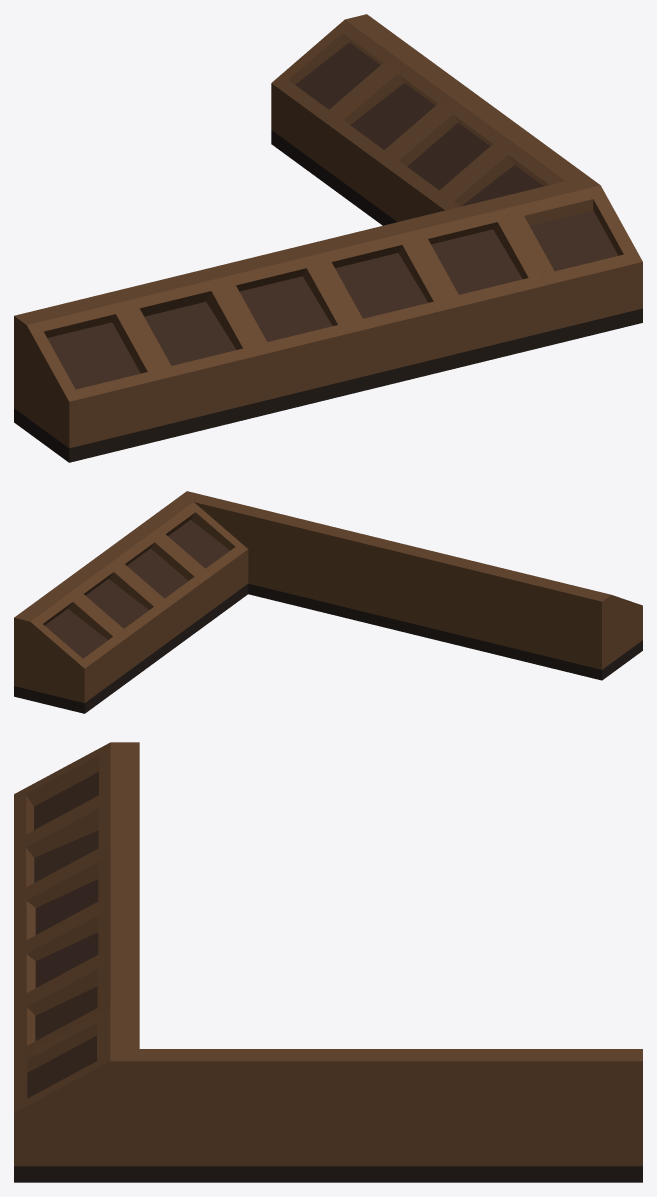
The model's file is bacsBois_corner3.fbx.
3 views of the same model, one above another, from view 1: azimuth 30°, elevation 25°; view 2: azimuth 150°, elevation 25°; view 3: azimuth 270°, elevation 25° (orthographic). The views are drawn at different scales.
Parts seen in each view (by area): view 1: Cube.007; view 2: Cube.007; view 3: Cube.007.
Part boxes in pixels (x1=…): Cube.007: x1=14, y1=14, x2=642, y2=462; Cube.007: x1=14, y1=491, x2=642, y2=713; Cube.007: x1=14, y1=742, x2=642, y2=1182.
Bounding box in the file's own units: 600 × 107 × 500.
